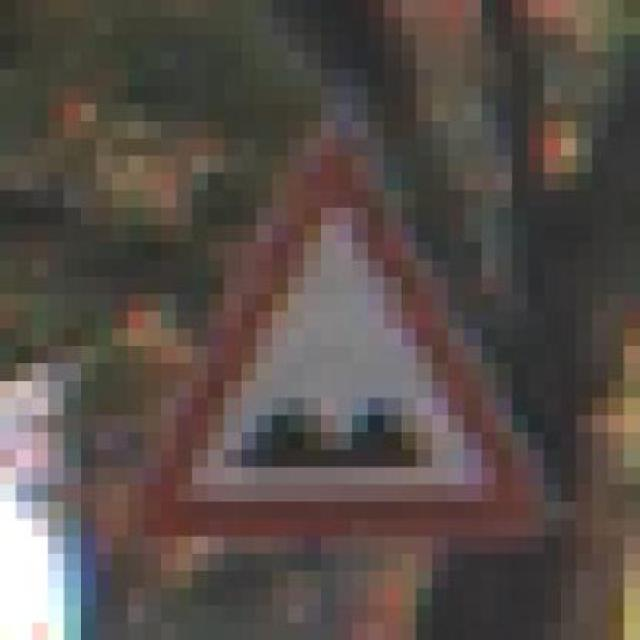Uneven Road: (128, 103, 592, 554)
